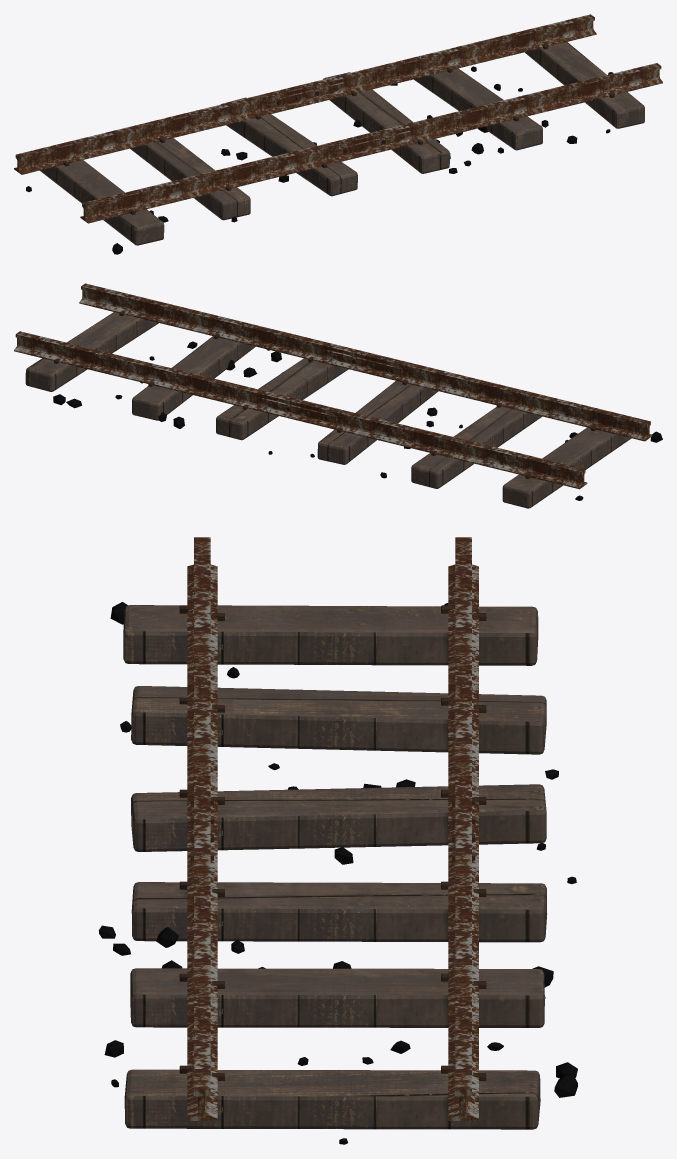
The model's file is narrow-gauge-track.glb.
3 renders of one model, top to bottom at view 1: azimuth 30°, elevation 25°; view 2: azimuth 150°, elevation 25°; view 3: azimuth 270°, elevation 25°, orthographic. The views are drawn at different scales.
Parts seen in each view (by area): view 1: track; view 2: track; view 3: track.
Boxes of the visible parts, x1,y1,x2,y2 form: track: [14, 14, 662, 254]; track: [14, 283, 662, 508]; track: [98, 537, 577, 1144].
Bounding box in the file's own units: 3 × 0.1954 × 1.1.
Materials: 4 (4 with a texture image).
